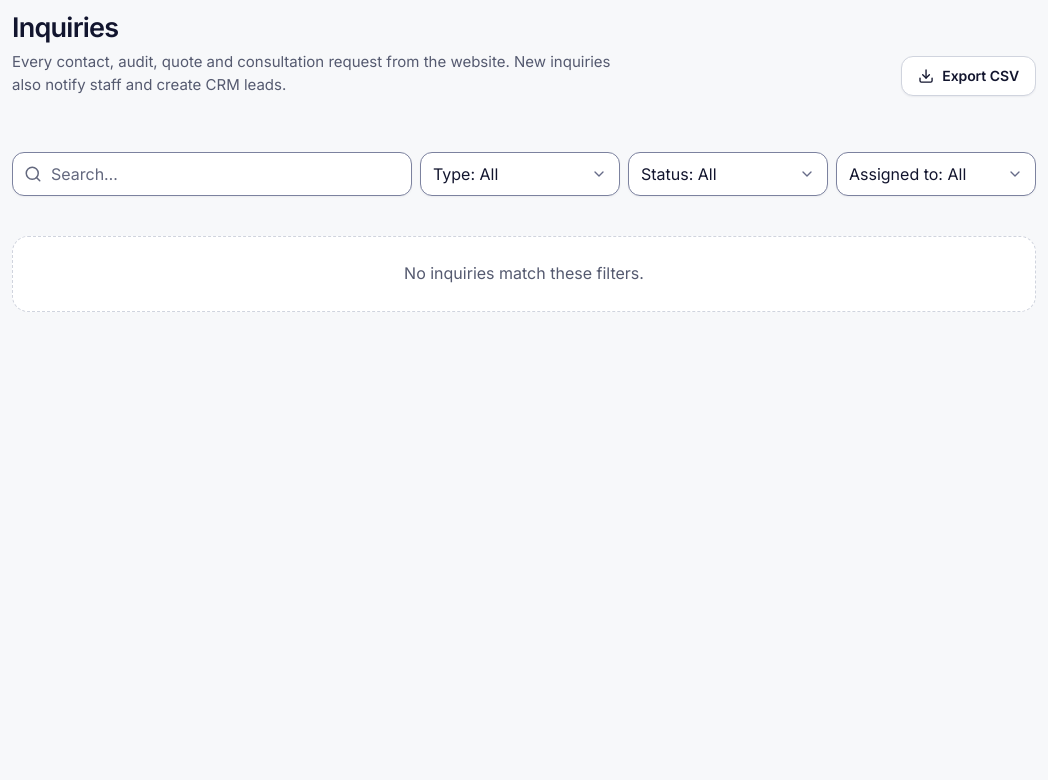
Scenario: Website lead exports › says why an export over the row cap was refused instead of failing silently
The image size is (1048, 780).
Click the button "Export CSV" at point(969, 76), box [901,56,1036,96]
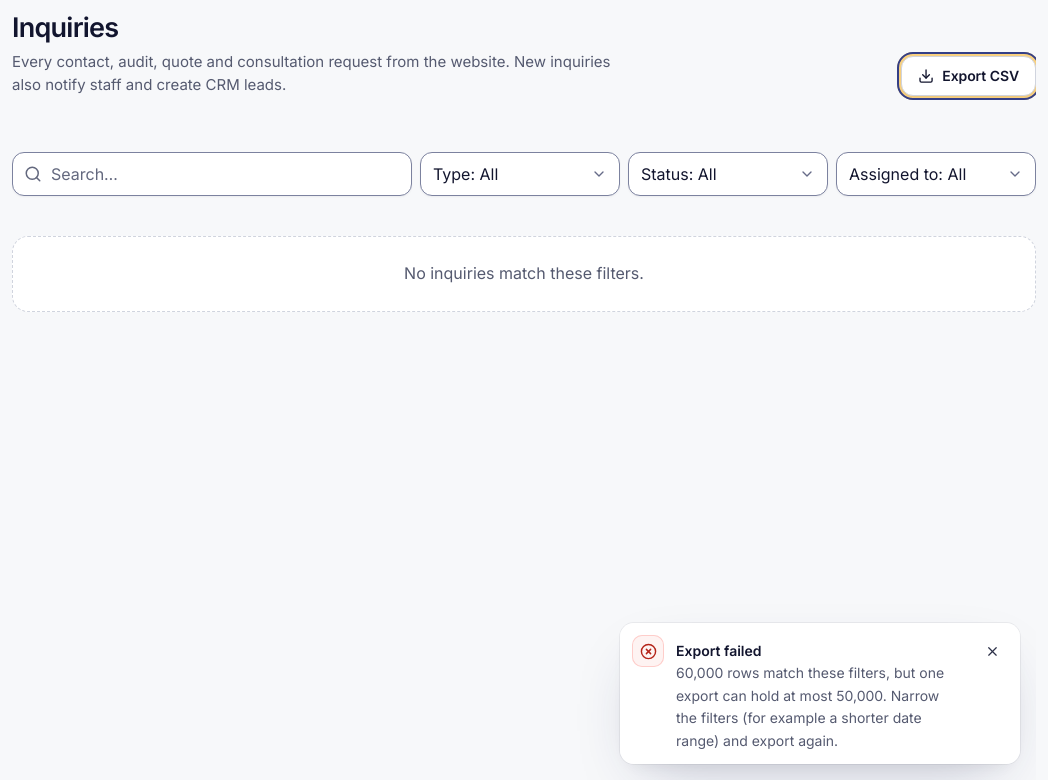
Check: the text "Export failed" is shown, box [676,642,762,659]
Check: the text "60,000 rows match these filters, but one export can hold at most 50,000. Narrow the filters (for example a shorter date " is shown, box [676,664,944,749]
